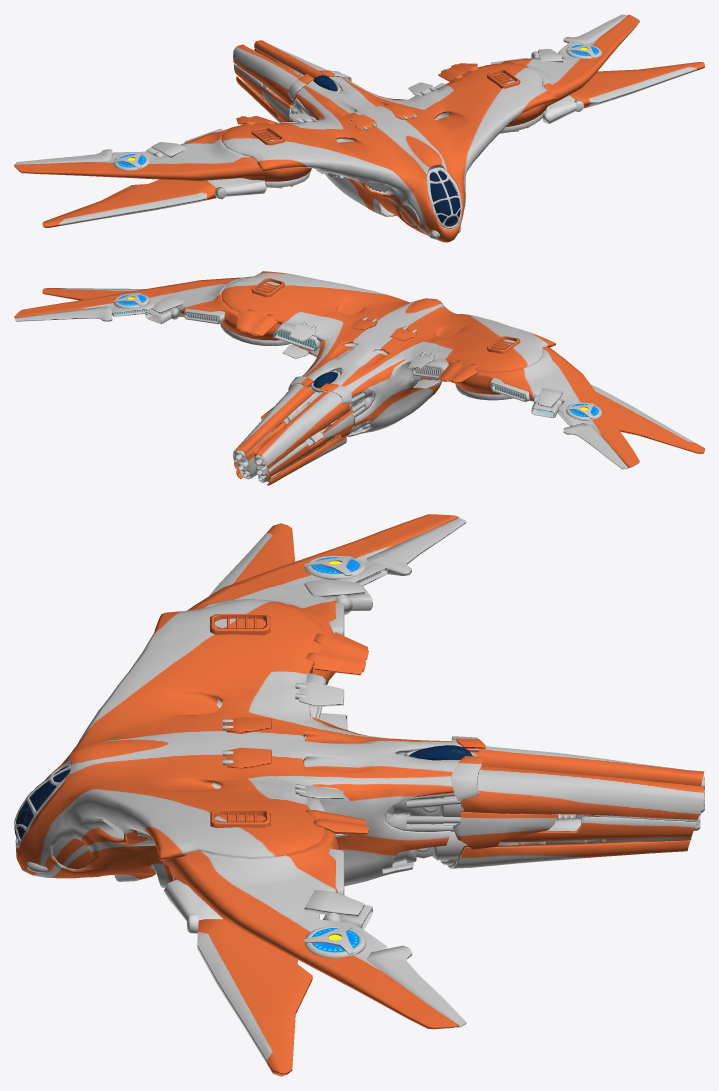
The model's file is guardians_of_the_galaxy_avengers_benatar_ship.glb.
3 views of the same model, one above another, from view 1: azimuth 30°, elevation 25°; view 2: azimuth 150°, elevation 25°; view 3: azimuth 270°, elevation 25° (orthographic). The views are drawn at different scales.
Parts seen in each view (by area): view 1: Benatar_UVmapped.Shape; view 2: Benatar_UVmapped.Shape; view 3: Benatar_UVmapped.Shape.
Boxes of the visible parts, x1,y1,x2,y2 form: Benatar_UVmapped.Shape: [14, 14, 704, 242]; Benatar_UVmapped.Shape: [14, 271, 704, 485]; Benatar_UVmapped.Shape: [14, 514, 704, 1076].
Size of the model in its own units: 10460 by 1408 by 5586.
51 materials, 41 textured.
